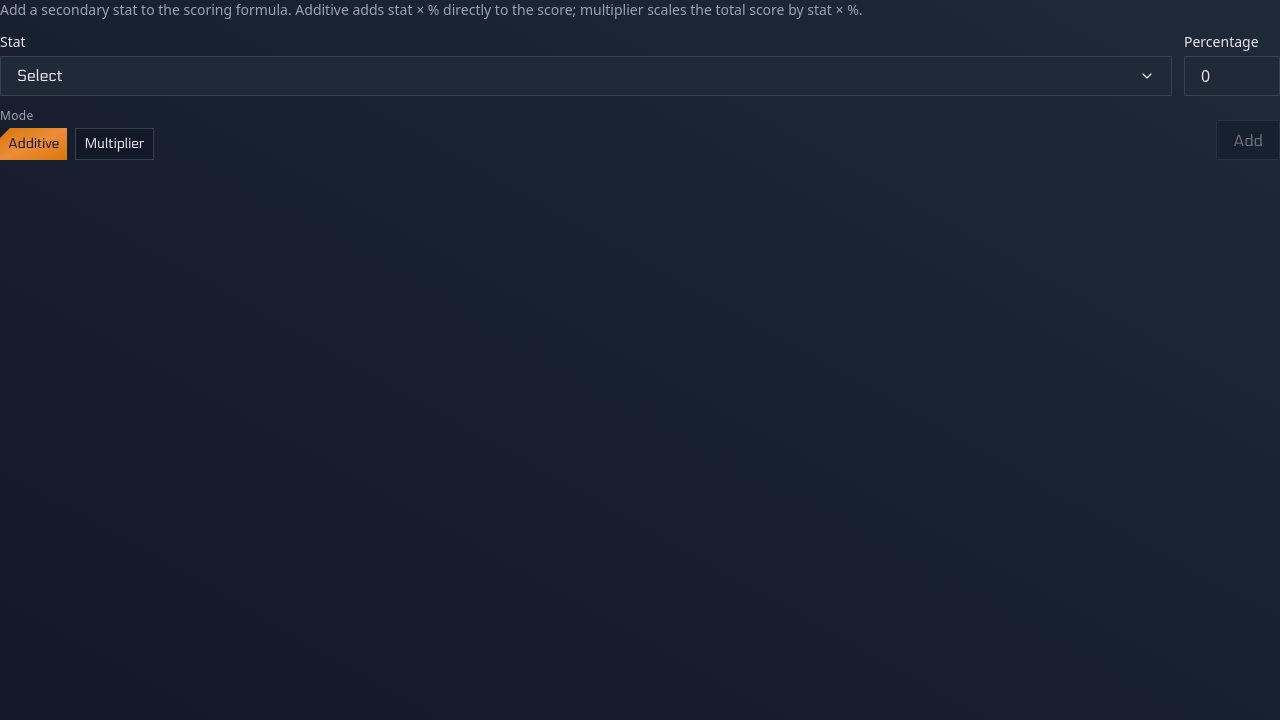
Test: StatBonusForm › offers the derived stats alongside real ones
This screenshot has width=1280, height=720.
Click the label labelled "Stat": (13, 42) [0,32,26,51]
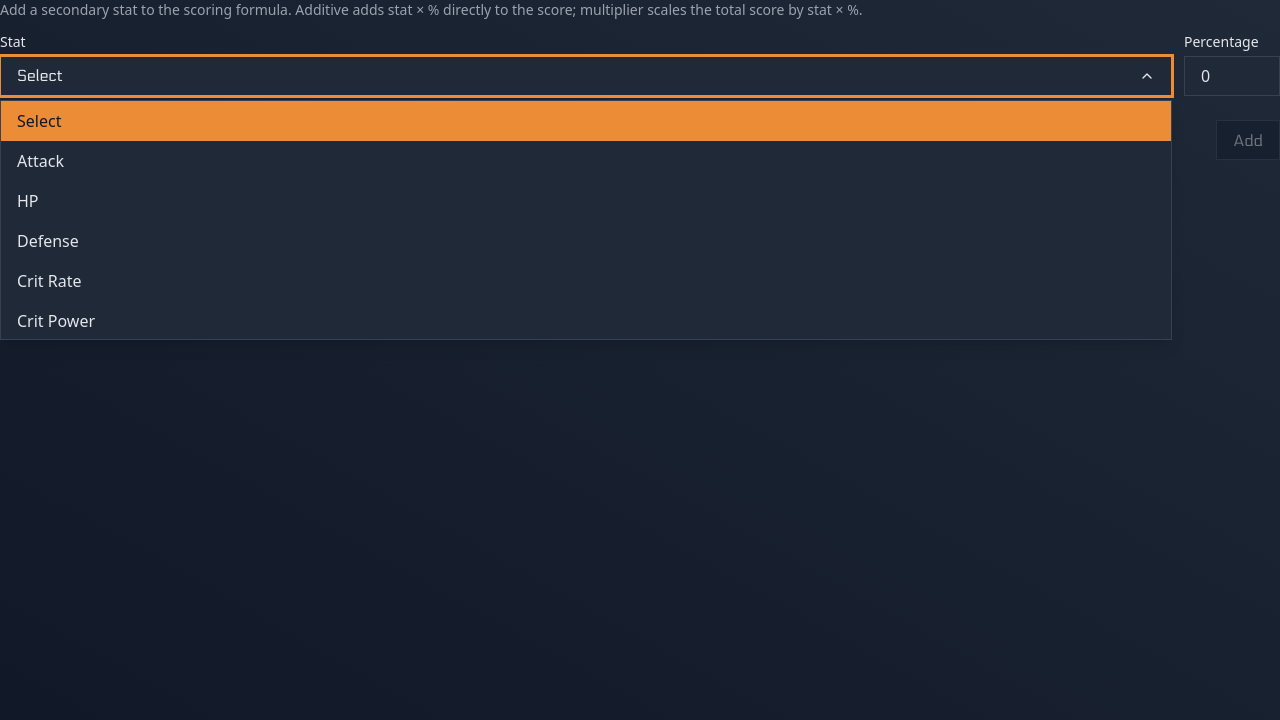
Check: the option "Attack" is shown, box [17,150,64,172]
